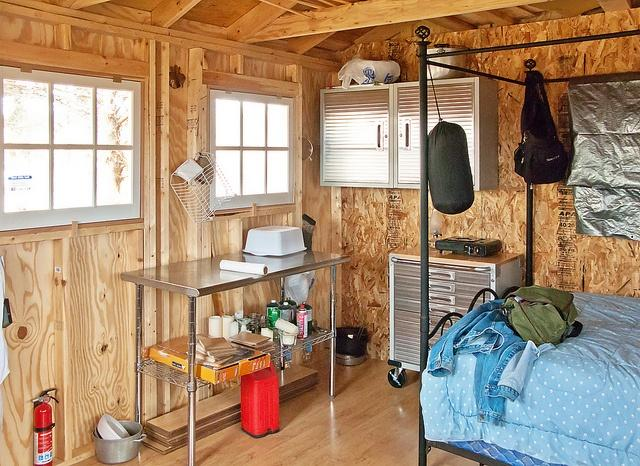Lemari: (320, 77, 478, 190)
Meja: (118, 249, 350, 313)
